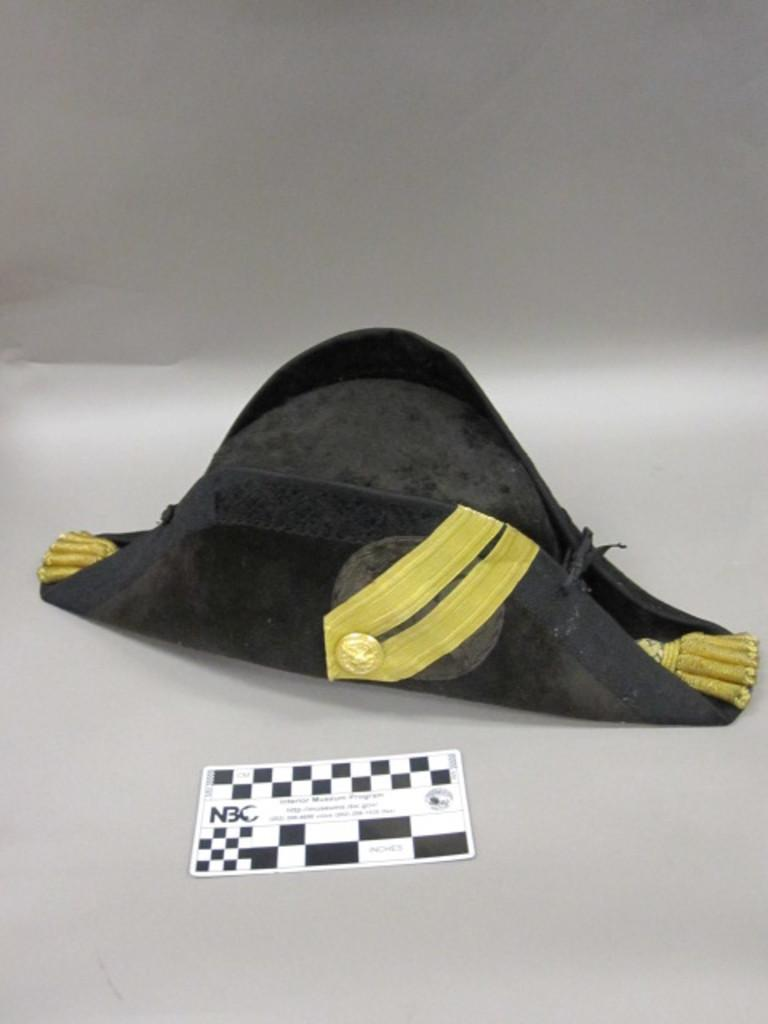Hat: (35, 326, 760, 726)
